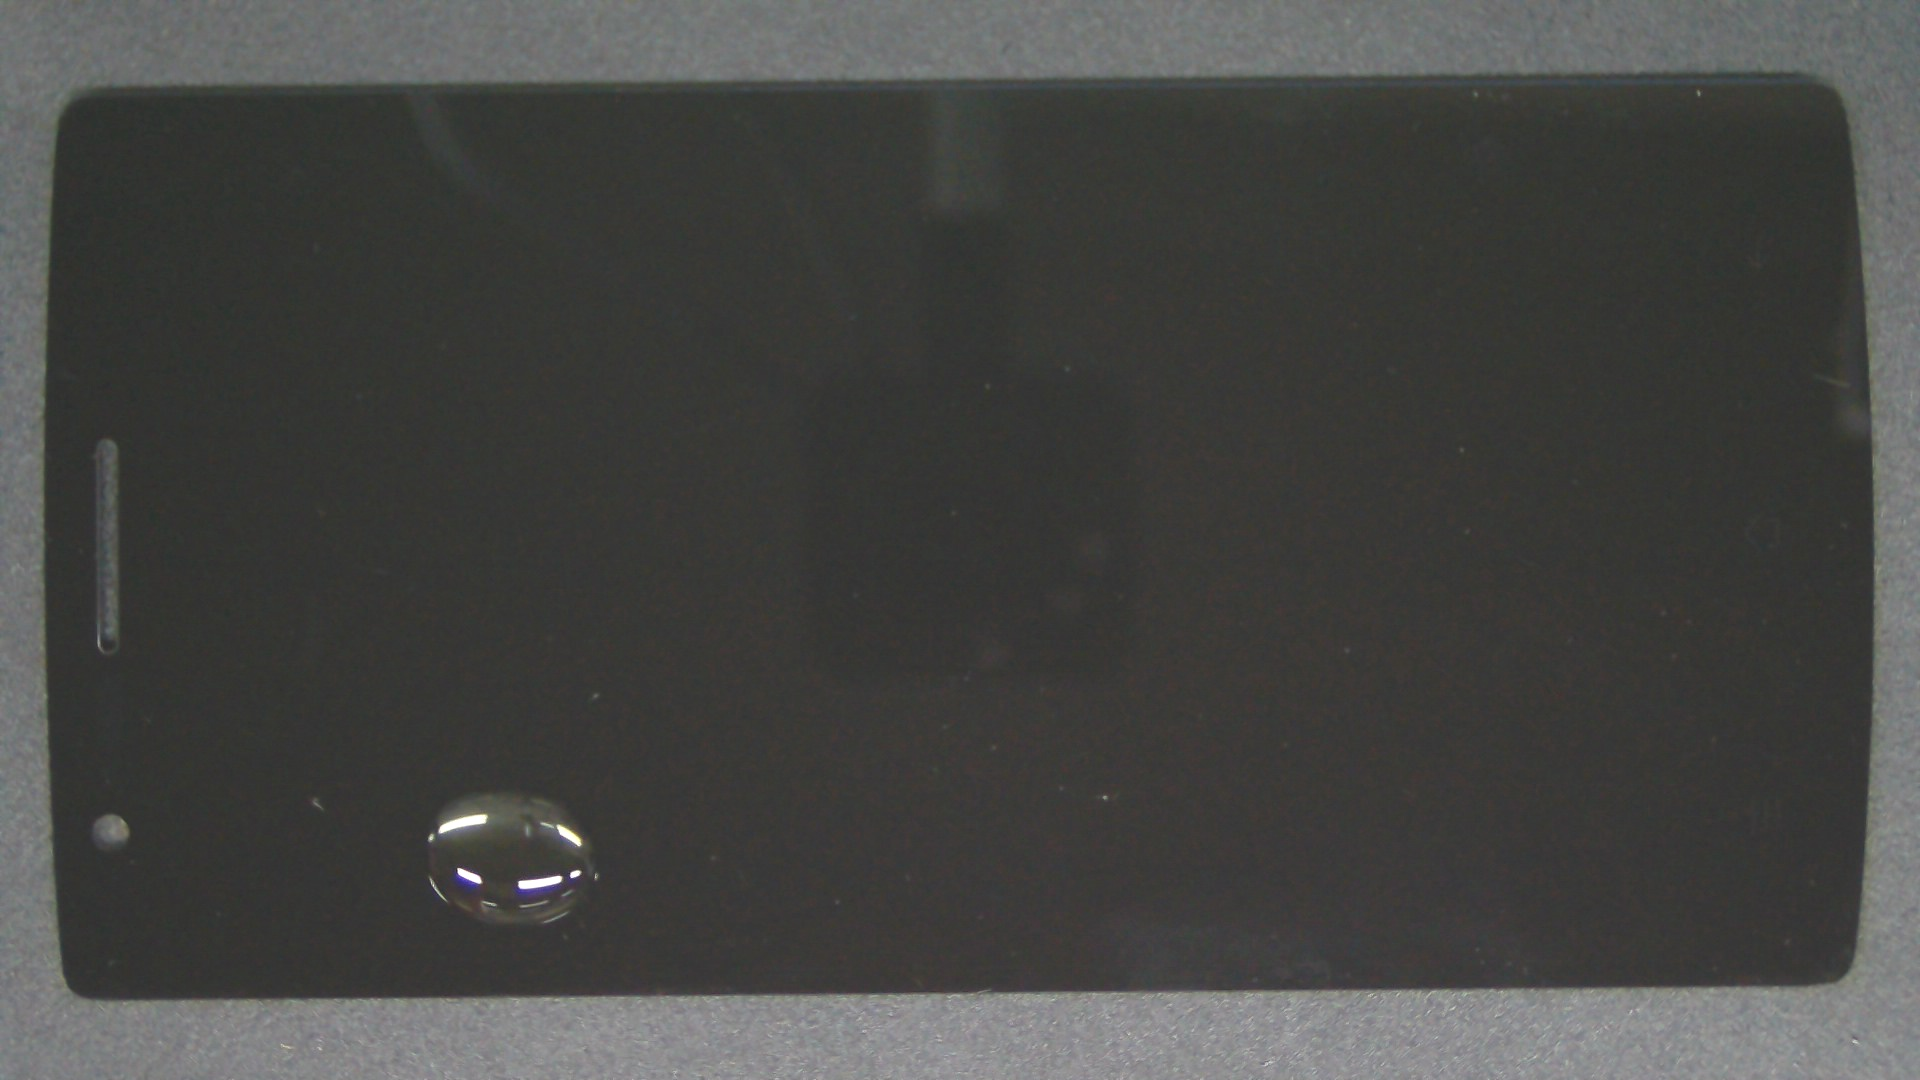oil: (243, 396, 725, 1080)
